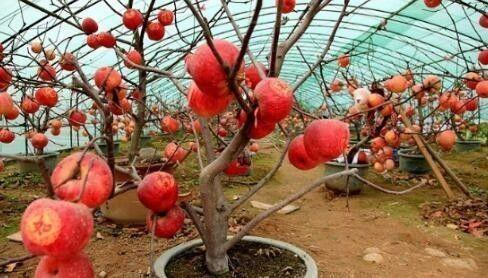apple: (19, 199, 93, 257), (49, 150, 114, 207), (185, 40, 243, 98), (291, 117, 350, 168), (136, 170, 177, 215), (437, 130, 456, 150)
